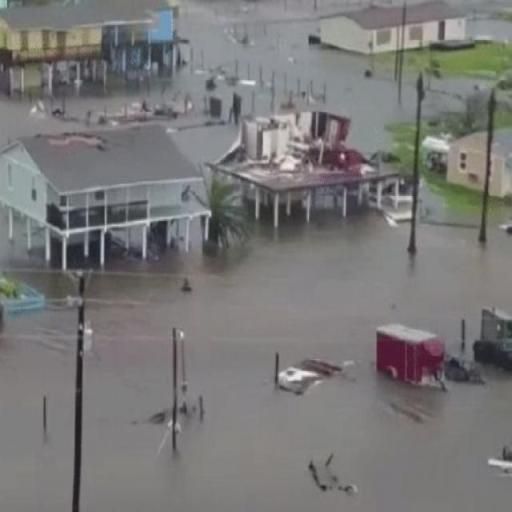flood: (80, 181, 512, 512), (150, 0, 418, 153), (0, 207, 77, 512), (0, 99, 106, 148), (169, 123, 238, 165), (66, 88, 119, 115), (473, 18, 512, 38), (122, 88, 144, 102)
house: (0, 118, 218, 274), (223, 104, 373, 232), (0, 0, 187, 87), (320, 1, 471, 59), (377, 318, 445, 389), (448, 123, 510, 200), (479, 303, 512, 368)
